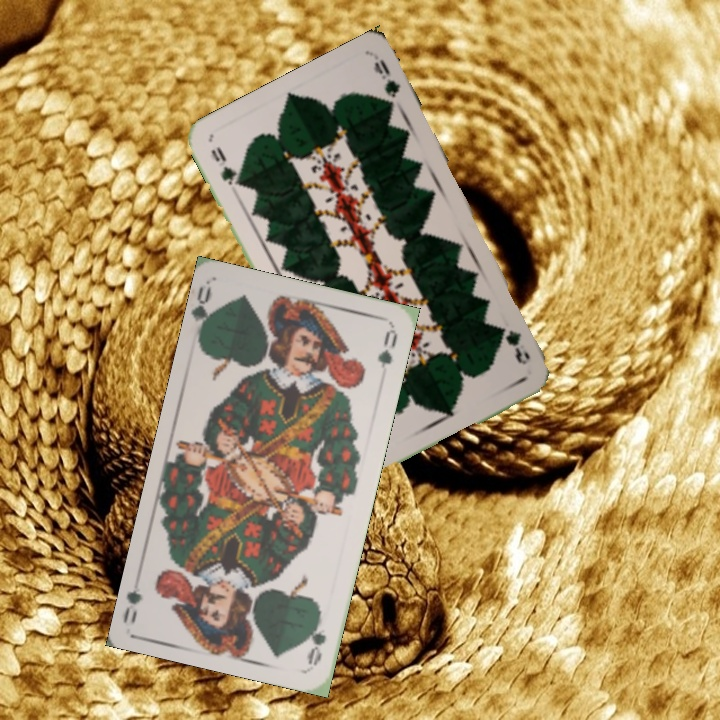G9: (207, 142, 246, 190), (503, 326, 533, 368)
GO: (190, 283, 220, 342), (303, 608, 329, 668)
